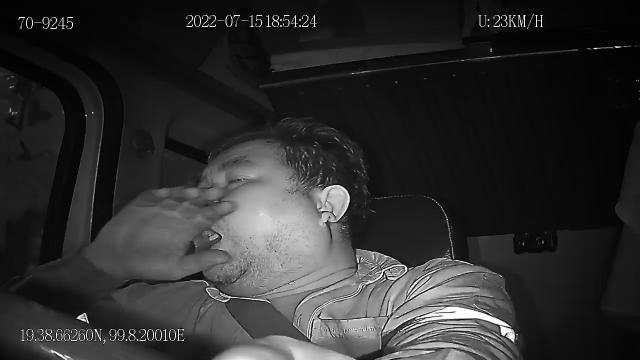Seatbelt: (223, 296, 314, 344)
